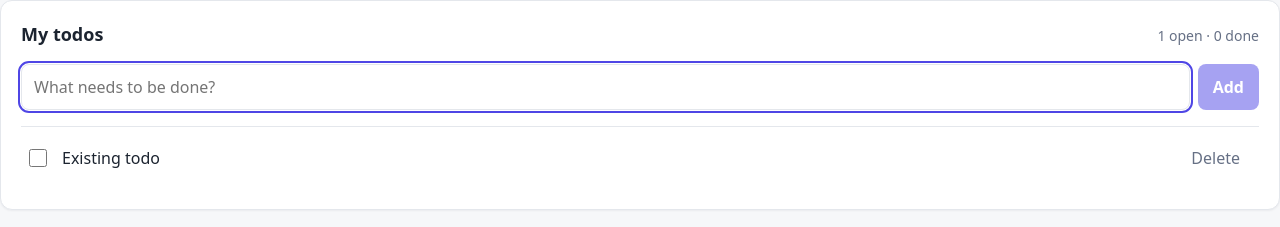
Test: TodoApp › deletes a todo
Step 1. Click the button named "Delete \"Existing todo\"" → (1216, 158), box [1176,137,1255,179]
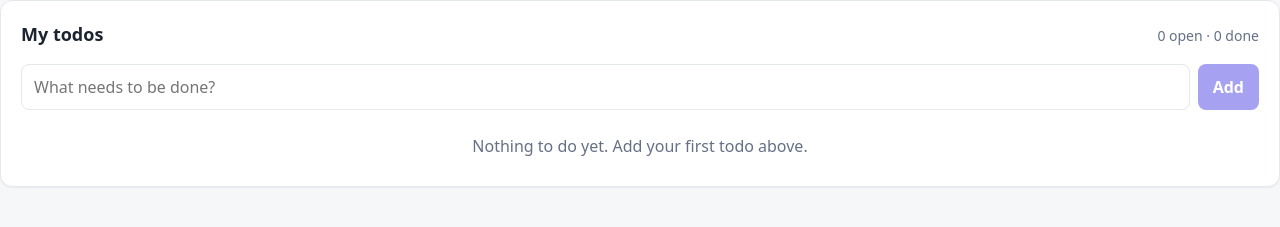
Expected: the text "Nothing to do yet. Add your first todo above." is shown, [472,135,808,157]
